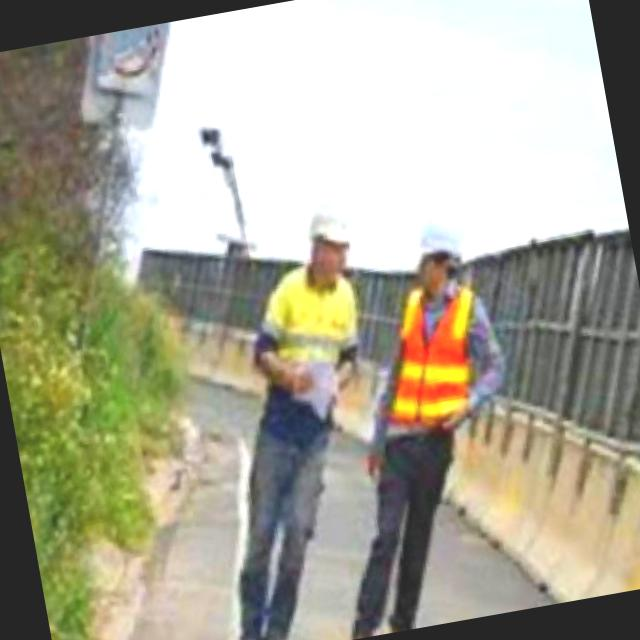Person: (258, 218, 559, 640), (157, 194, 428, 640)
